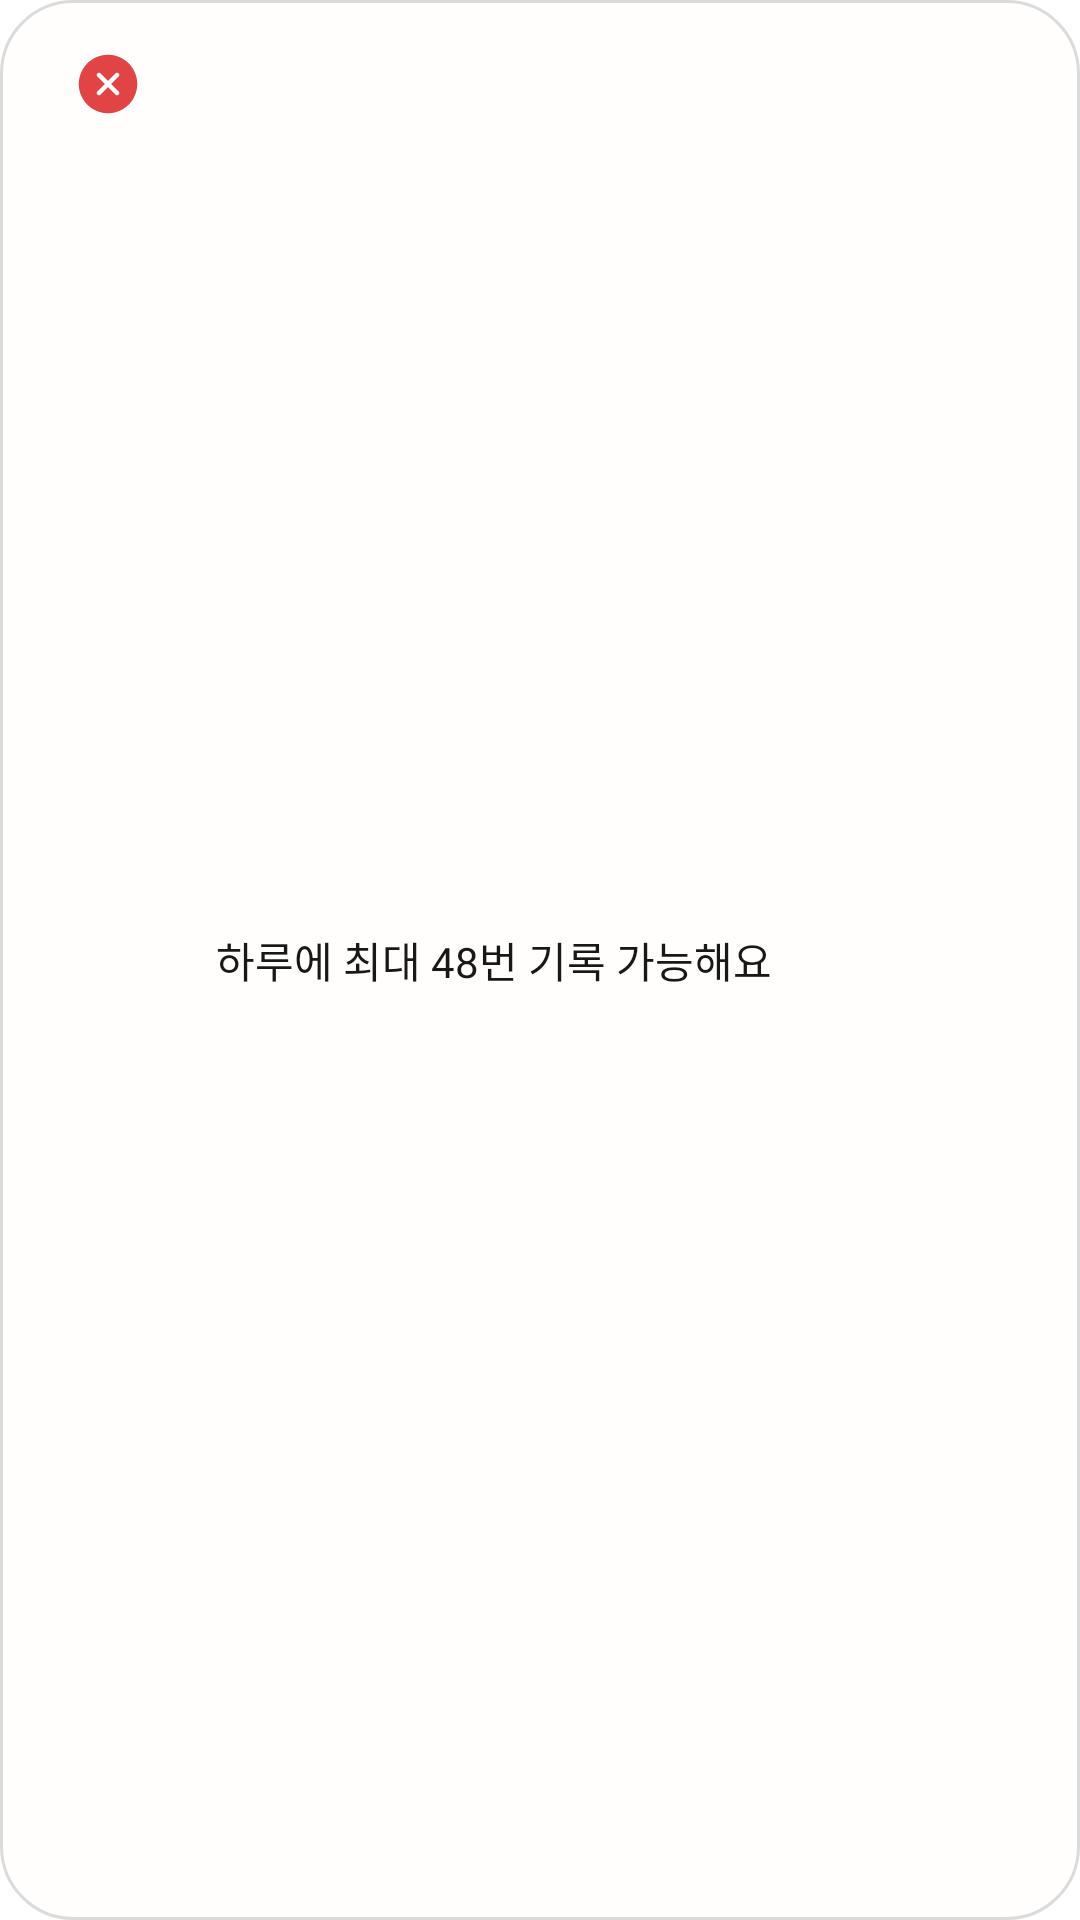

Locate icon controls on the screen. Image size 1080 × 1920, boxes as detection(x1, y1, x2, y2).
xcircle: detection(78, 54, 138, 114)
